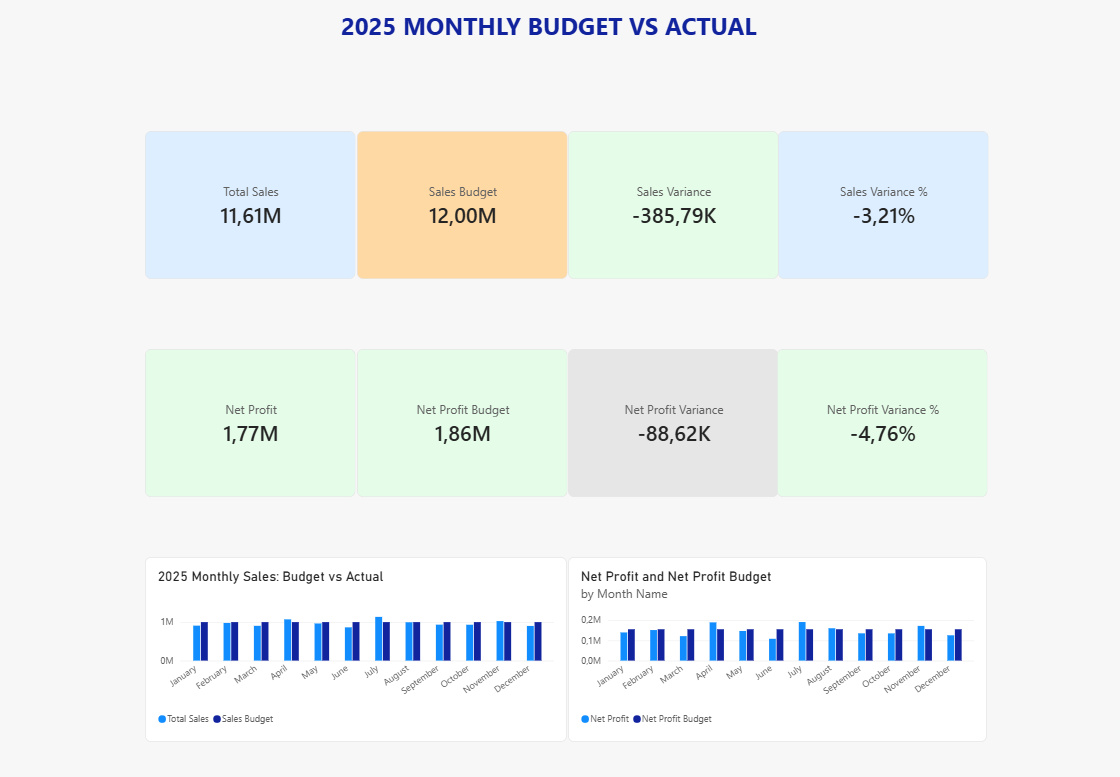

This screenshot's page, from the dashboard's own definition file:
{"tool":"powerbi","page":{"name":"2025 Budget vs Actual","canvas":[1920,1080],"ordinal":3},"visuals":[{"type":"textbox","box":[0,29.1,1920,72.7],"z":0},{"type":"cardVisual","fields":{"Data":["financial_ledger_2025.Total Sales"]},"box":[419.2,191.2,280.5,197.4],"z":1000},{"type":"cardVisual","fields":{"Data":["financial_ledger_2025.Net Profit"]},"box":[419.2,482,280.5,197.4],"z":2000},{"type":"cardVisual","fields":{"Data":["Budget_2025.Sales Variance"]},"box":[981,191,280.5,197.4],"z":3000},{"type":"cardVisual","fields":{"Data":["Budget_2025.Net Profit Variance"]},"box":[981,481.9,280.5,197.4],"z":4000},{"type":"cardVisual","fields":{"Data":["Value to Month Number.Sales Budget"]},"box":[700.4,191,280.5,197.4],"z":5000},{"type":"cardVisual","fields":{"Data":["Budget_2025.Net Profit Budget"]},"box":[700.4,481.9,280.5,197.4],"z":6000},{"type":"cardVisual","fields":{"Data":["Budget_2025.Sales Variance %"]},"box":[1261.5,191,280.5,197.4],"z":7000},{"type":"cardVisual","fields":{"Data":["Budget_2025.Net Profit Variance %"]},"box":[1259.4,481.9,280.5,197.4],"z":8000},{"type":"clusteredColumnChart","title":"2025 Monthly Sales: Budget vs Actual","fields":{"Category":["Value to Month Number.Month Name"],"Y":["financial_ledger_2025.Total Sales","Value to Month Number.Sales Budget"]},"box":[419.2,757.9,561.3,245.8],"z":9000},{"type":"clusteredColumnChart","fields":{"Category":["Value to Month Number.Month Name"],"Y":["financial_ledger_2025.Net Profit","Budget_2025.Net Profit Budget"]},"box":[981.8,757.9,557.2,245.8],"z":10000}]}

Visuals, with their boxes on the page's 1920x1080 design canvas (x1, y1, x2, y2). These are canvas units, not pixel positions in the 1120x777 screenshot, which may show the page scaled, cropped or inside an application window:
textbox: (left=0, top=29, right=1920, bottom=102)
cardVisual - financial_ledger_2025.Total Sales: (left=419, top=191, right=700, bottom=389)
cardVisual - financial_ledger_2025.Net Profit: (left=419, top=482, right=700, bottom=679)
cardVisual - Budget_2025.Sales Variance: (left=981, top=191, right=1262, bottom=388)
cardVisual - Budget_2025.Net Profit Variance: (left=981, top=482, right=1262, bottom=679)
cardVisual - Value to Month Number.Sales Budget: (left=700, top=191, right=981, bottom=388)
cardVisual - Budget_2025.Net Profit Budget: (left=700, top=482, right=981, bottom=679)
cardVisual - Budget_2025.Sales Variance %: (left=1262, top=191, right=1542, bottom=388)
cardVisual - Budget_2025.Net Profit Variance %: (left=1259, top=482, right=1540, bottom=679)
"2025 Monthly Sales: Budget vs Actual" clusteredColumnChart: (left=419, top=758, right=980, bottom=1004)
clusteredColumnChart - Value to Month Number.Month Name x financial_ledger_2025.Net Profit: (left=982, top=758, right=1539, bottom=1004)
